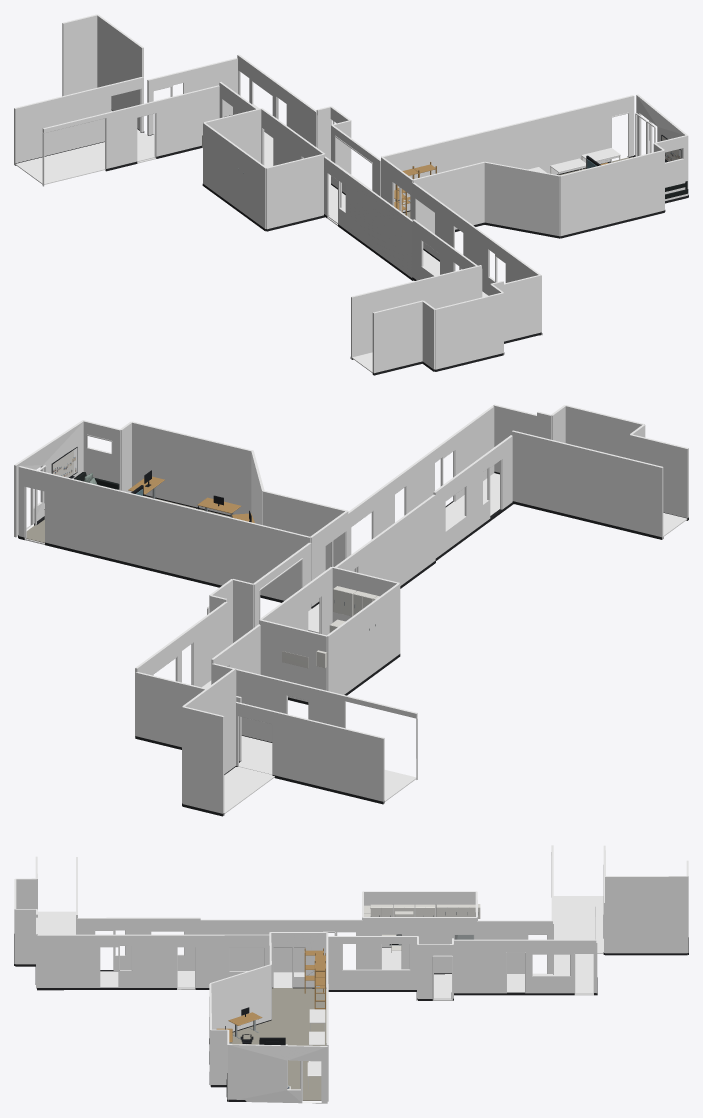
The model's file is model-f3b1bcdff21c.glb.
3 renders of one model, top to bottom at view 1: azimuth 30°, elevation 25°; view 2: azimuth 150°, elevation 25°; view 3: azimuth 270°, elevation 25°, orthographic. The views are drawn at different scales.
Parts seen in each view (by area): view 1: architecture_region_lab-wall-1, architecture_region_lab-wall-5, architecture_region_north-inner, architecture_region_north-outer, architecture_region_lab-hall-west, architecture_region_lab-wall-6, architecture_region_west-inner, architecture_region_west-alcove-back, architecture_region_kitchen-wall-4, architecture_region_kitchen-wall-3, architecture_region_south-hall-east, architecture_region_west-outer-left (+20 smaller); view 2: architecture_region_lab-wall-1, architecture_region_west-inner, architecture_region_lab-wall-5, architecture_region_north-outer, architecture_region_south-hall-east, architecture_region_kitchen-wall-4, architecture_region_north-inner, architecture_region_lab-hall-west, architecture_region_stair-north, architecture_region_south-hall-west, architecture_region_north-entry, architecture_region_kitchen-wall-1 (+21 smaller); view 3: architecture_region_south-hall-east, architecture_region_stair-east, architecture_region_central-east, architecture_region_lab-wall-2, architecture_floor_lab-2f, architecture_region_lab-hall-west, architecture_region_kitchen-wall-2, architecture_floor_north-hall-2f, architecture_region_central-east-south, architecture_region_lab-wall-6, architecture_region_south-hall-west, architecture_region_central-west (+11 smaller).
Boxes of the visible parts, left/top/right/bottom form: architecture_region_lab-wall-1: left=381, top=95, right=634, bottom=211; architecture_region_lab-wall-5: left=560, top=150, right=664, bottom=237; architecture_region_north-inner: left=42, top=85, right=219, bottom=186; architecture_region_north-outer: left=14, top=85, right=108, bottom=165; architecture_region_lab-hall-west: left=324, top=156, right=412, bottom=277; architecture_region_lab-wall-6: left=484, top=161, right=560, bottom=236; architecture_region_west-inner: left=351, top=265, right=481, bottom=359; architecture_region_west-alcove-back: left=434, top=292, right=503, bottom=369; architecture_region_kitchen-wall-4: left=203, top=122, right=266, bottom=228; architecture_region_kitchen-wall-3: left=266, top=154, right=324, bottom=229; architecture_region_south-hall-east: left=412, top=182, right=541, bottom=335; architecture_region_west-outer-left: left=372, top=300, right=422, bottom=373; architecture_region_lab-wall-1: left=18, top=466, right=310, bottom=600; architecture_region_west-inner: left=511, top=430, right=663, bottom=539; architecture_region_lab-wall-5: left=131, top=421, right=253, bottom=515; architecture_region_north-outer: left=275, top=711, right=384, bottom=803; architecture_region_south-hall-east: left=348, top=405, right=494, bottom=571; architecture_region_kitchen-wall-4: left=326, top=583, right=400, bottom=694; architecture_region_north-inner: left=211, top=663, right=417, bottom=779; architecture_region_lab-hall-west: left=335, top=494, right=435, bottom=585; architecture_region_stair-north: left=182, top=706, right=224, bottom=815; architecture_region_south-hall-west: left=433, top=435, right=512, bottom=557; architecture_region_north-entry: left=135, top=672, right=241, bottom=761; architecture_region_kitchen-wall-1: left=259, top=619, right=327, bottom=701; architecture_region_south-hall-east: left=37, top=934, right=269, bottom=989; architecture_region_stair-east: left=605, top=876, right=687, bottom=953; architecture_region_central-east: left=454, top=939, right=596, bottom=995; architecture_region_lab-wall-2: left=228, top=1044, right=327, bottom=1103; architecture_floor_lab-2f: left=229, top=988, right=326, bottom=1100; architecture_region_lab-hall-west: left=200, top=919, right=362, bottom=972; architecture_region_kitchen-wall-2: left=363, top=917, right=476, bottom=973; architecture_floor_north-hall-2f: left=553, top=896, right=603, bottom=994; architecture_region_central-east-south: left=328, top=936, right=417, bottom=989; architecture_region_lab-wall-6: left=210, top=964, right=271, bottom=1031; architecture_region_south-hall-west: left=77, top=917, right=200, bottom=970; architecture_region_central-west: left=477, top=920, right=552, bottom=973.
Bounding box in the file's own units: 24.21 × 4.21 × 32.79.
24 materials, 1 textured.
